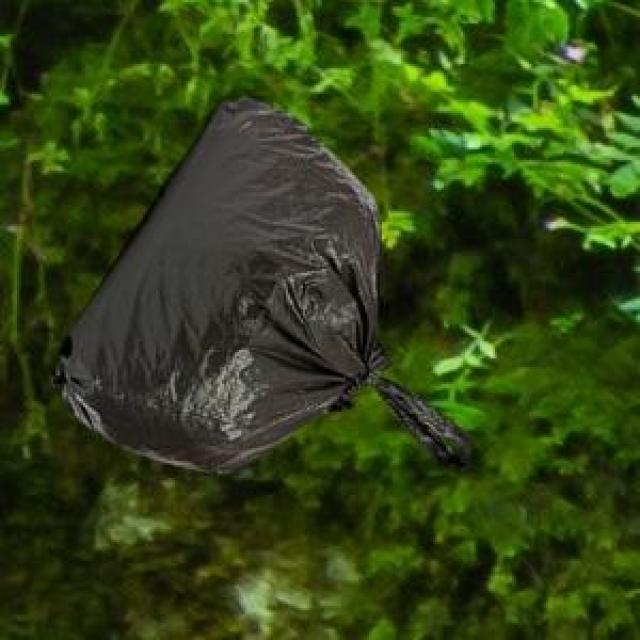miscellaneous trash: (47, 94, 467, 469)
